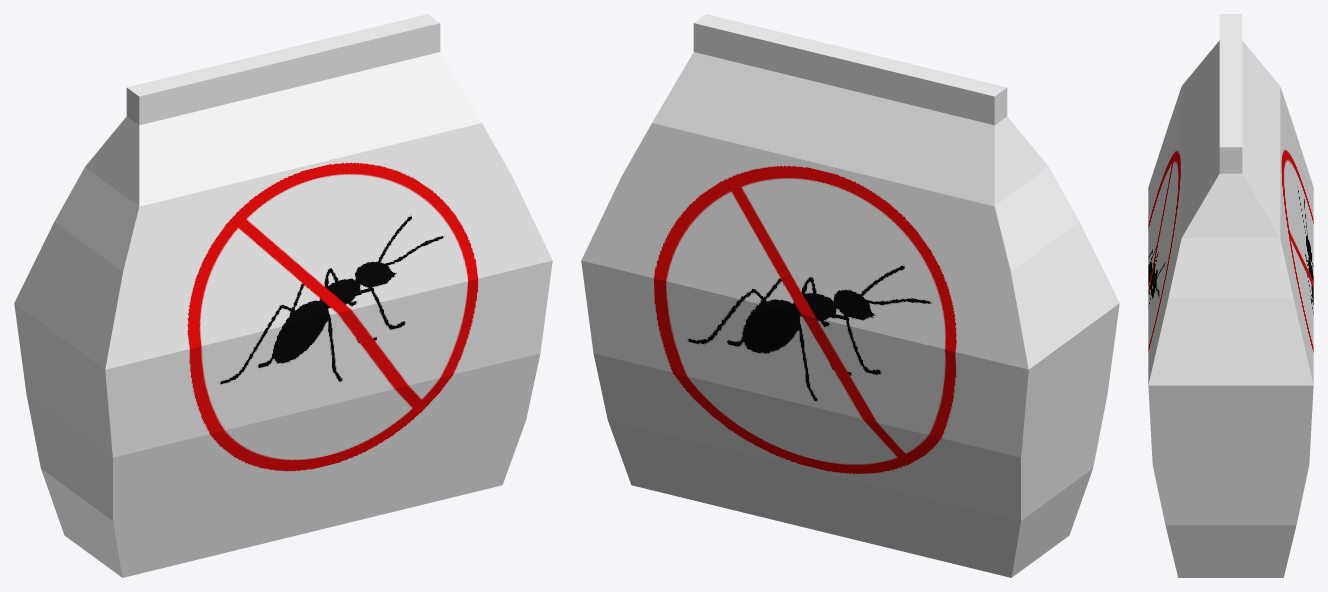
Rendered from insecticidePrototype.fbx.
The picture shows the model from 3 angles, left to right: view 1: azimuth 30°, elevation 25°; view 2: azimuth 150°, elevation 25°; view 3: azimuth 270°, elevation 25°; orthographic projection. The views are drawn at different scales.
Visible parts, largest first — view 1: Cube; view 2: Cube; view 3: Cube.
Boxes of the visible parts, x1,y1,x2,y2 form: Cube: (14, 14, 552, 577); Cube: (581, 14, 1119, 577); Cube: (1148, 14, 1313, 577).
Bounding box in the file's own units: 118 × 114 × 41.48.
1 material, 1 textured.
